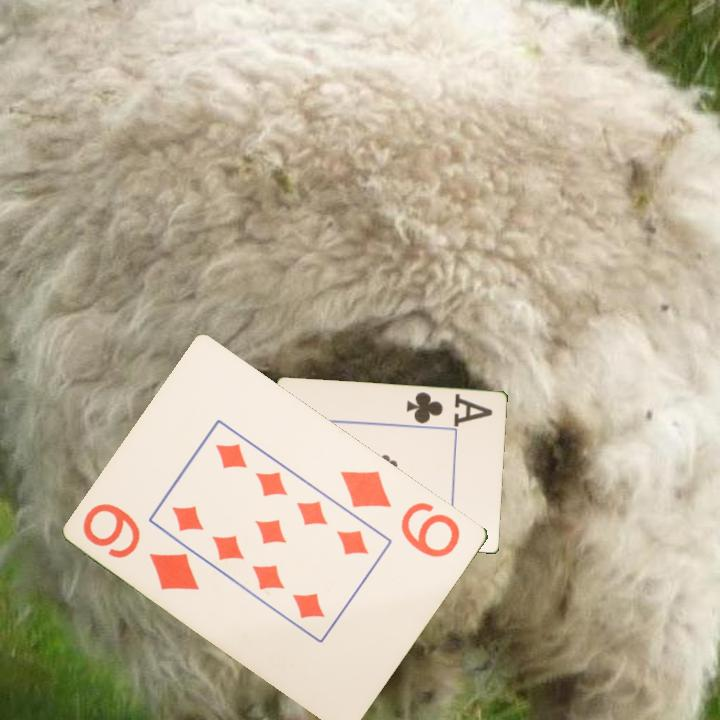9d: (337, 466, 464, 561), (79, 499, 203, 594)
Ac: (402, 389, 495, 429)
